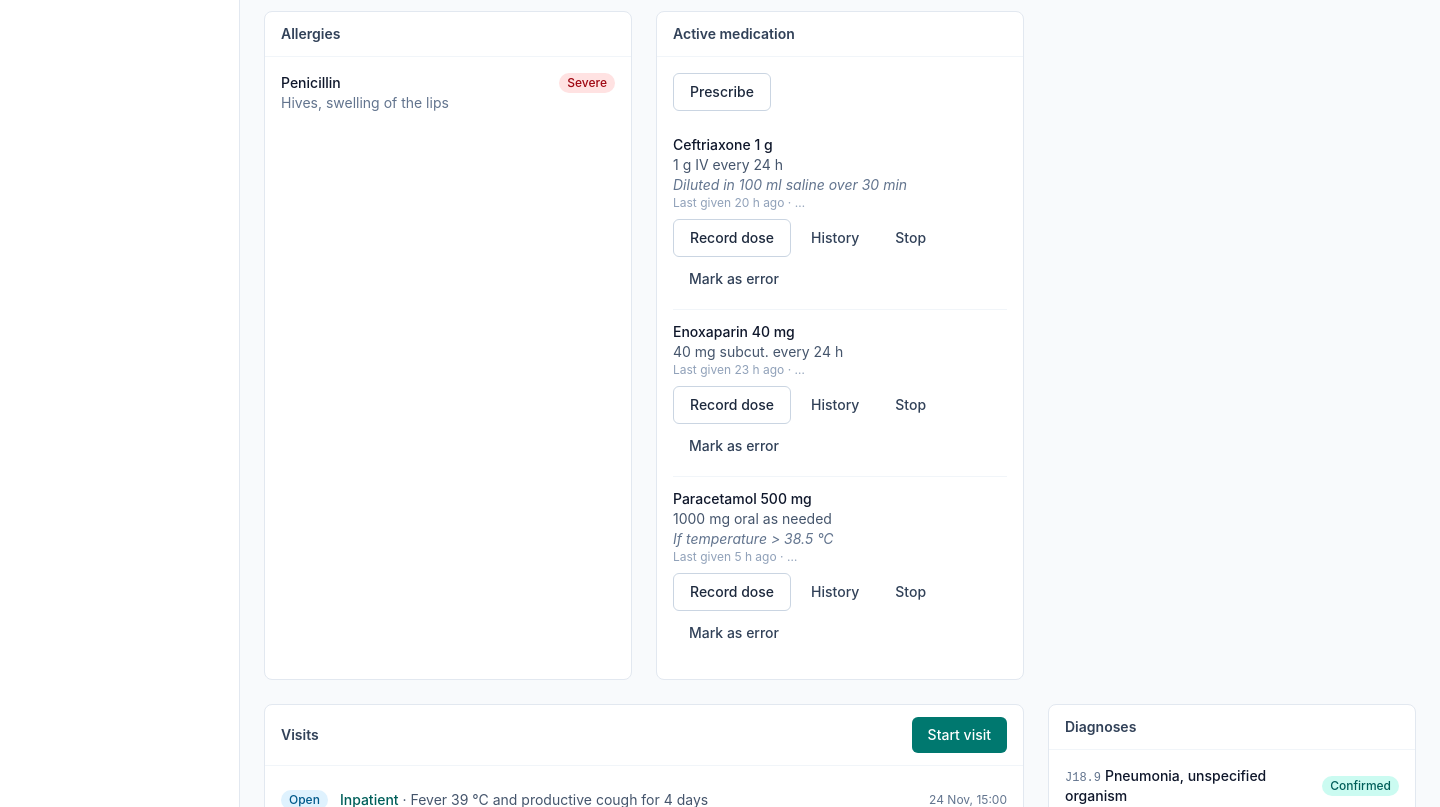
Test case: doctor: prescribing with safety checks › stops a prescription with a reason
(page scrolled)
Click the button "Stop" below "Enoxaparin" at (911, 405), box [879,386,942,424]
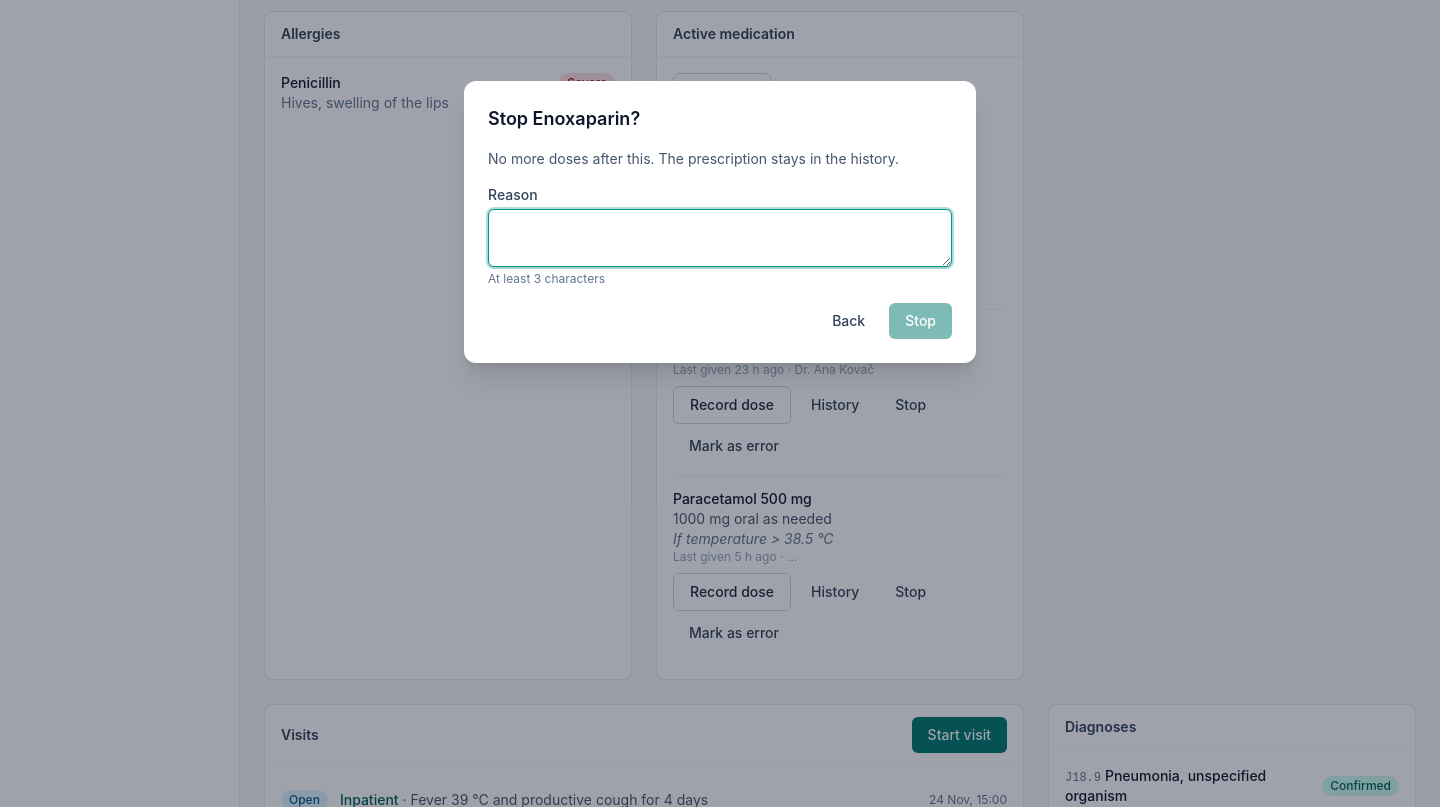
Type "Patient walking, no more risk" into the text box labelled "Reason" at (720, 238), box [488,209,952,267]
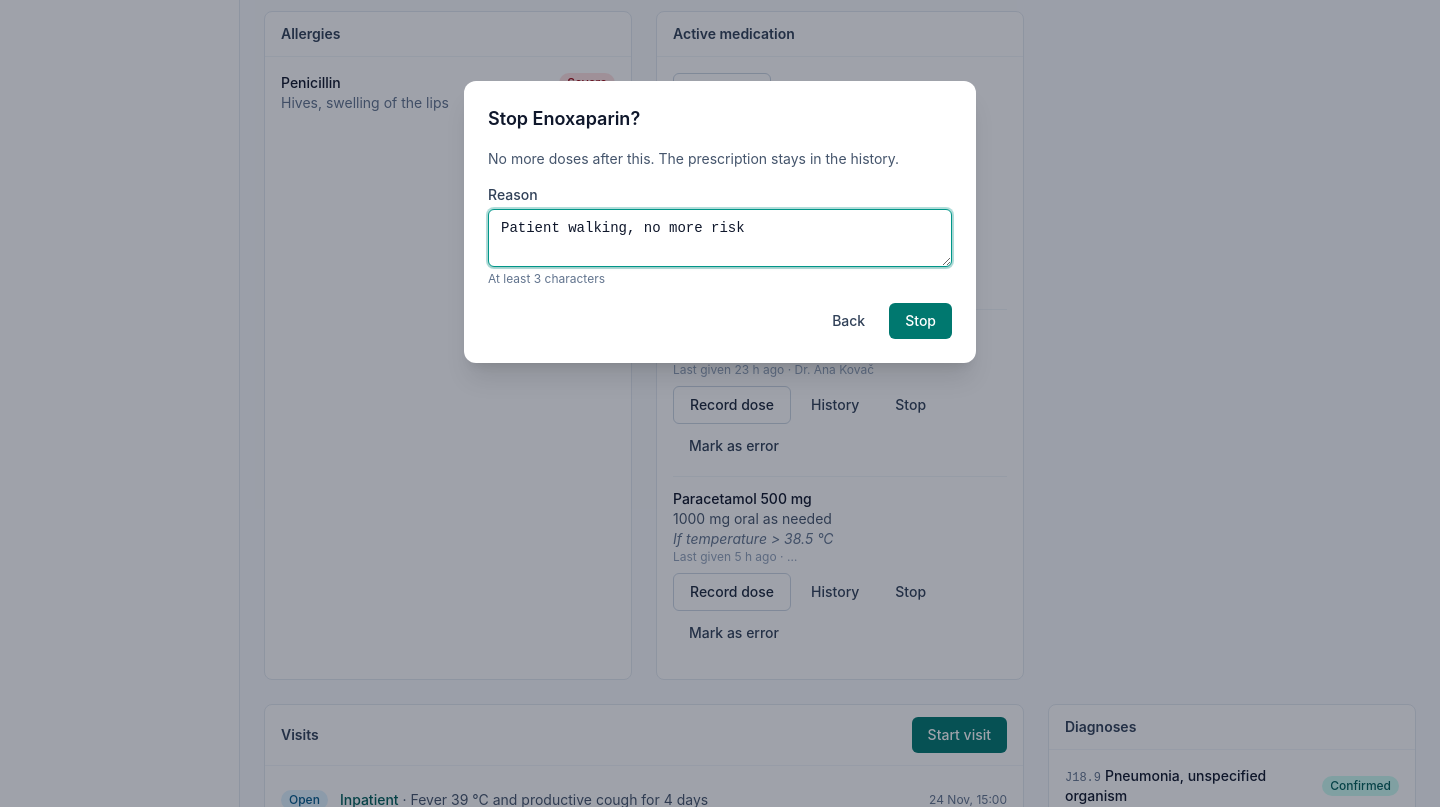
Click the button "Stop" at (921, 321), box [889,303,952,339]
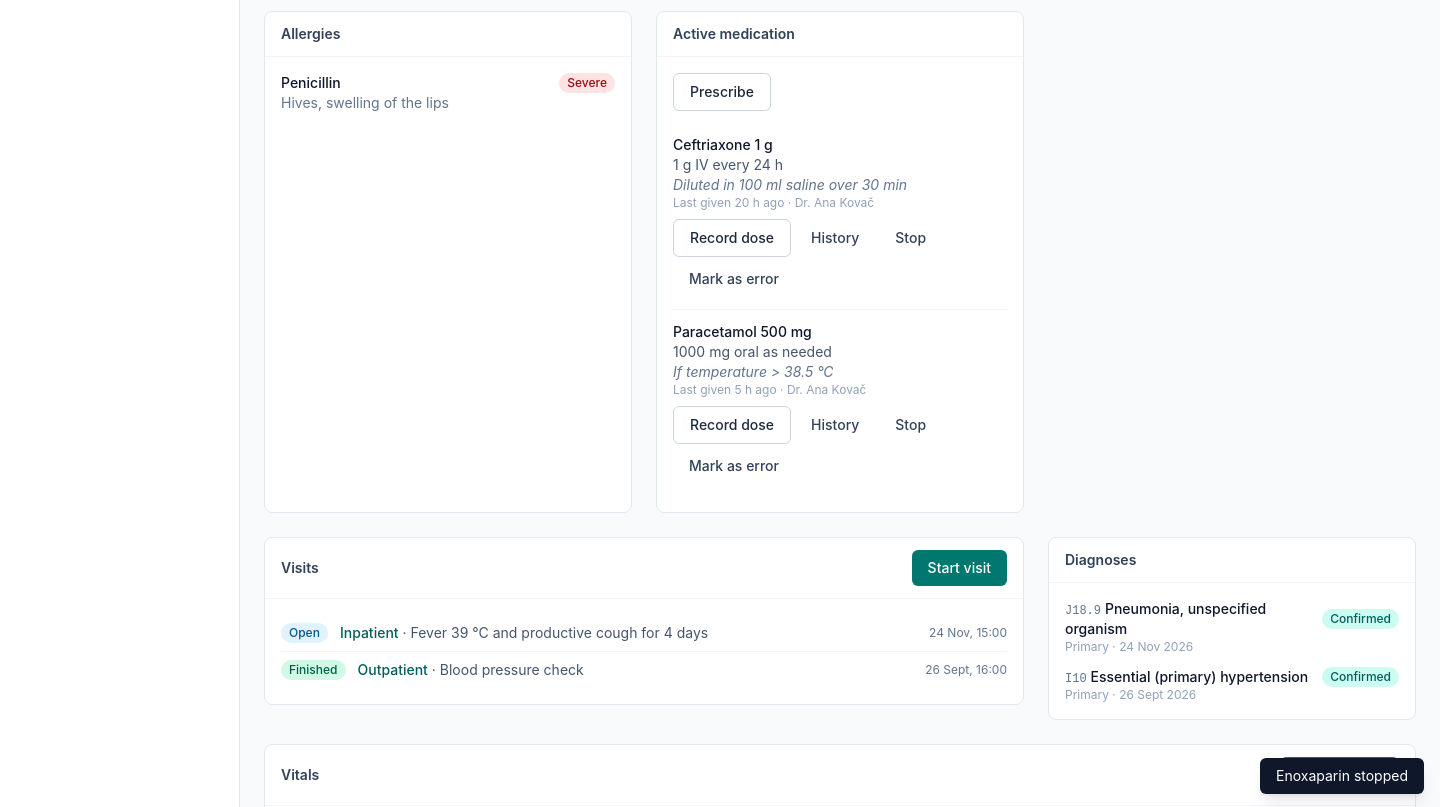
Expected: the text "Enoxaparin stopped" is shown, [1260,758,1424,794]
Expected: the text "Enoxaparin 40 mg" is gone
